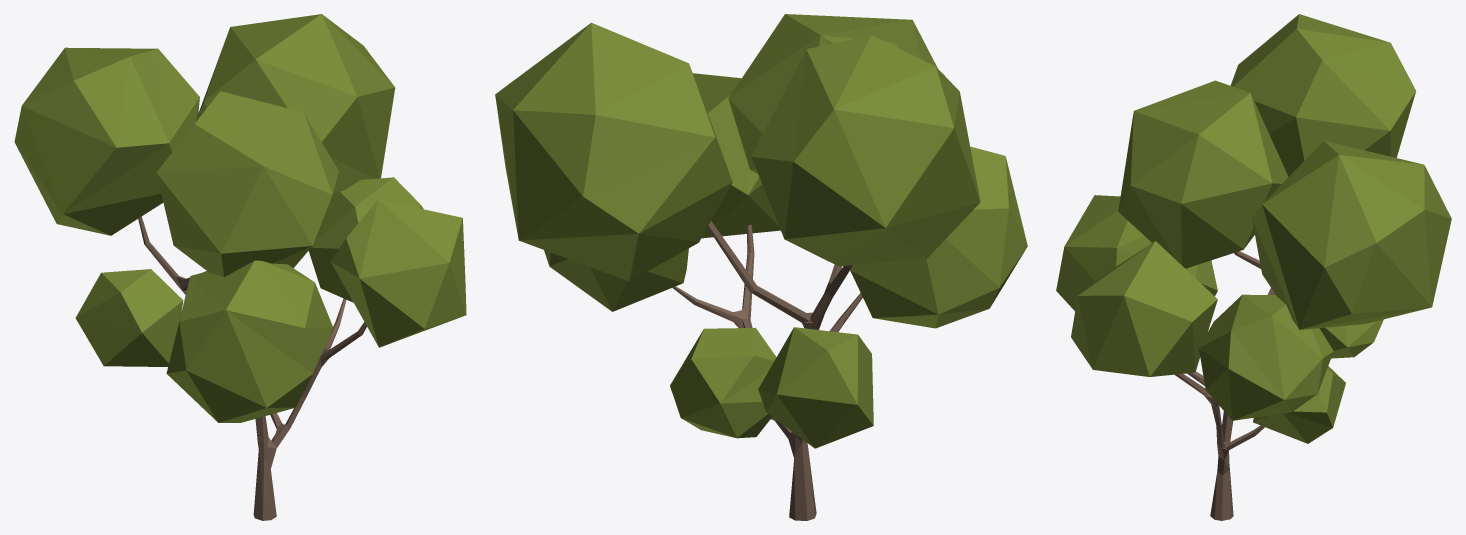
The model's file is oak_2.fbx.
3 views of the same model, side by side, from view 1: azimuth 30°, elevation 25°; view 2: azimuth 150°, elevation 25°; view 3: azimuth 270°, elevation 25° (orthographic). The views are drawn at different scales.
Visible parts, largest first — view 1: oak_2; view 2: oak_2; view 3: oak_2.
Part boxes in pixels (x1,y1,x2,y2): oak_2: [14, 14, 466, 520]; oak_2: [495, 14, 1027, 520]; oak_2: [1056, 14, 1451, 520].
Bounding box in the file's own units: 856 × 995 × 808.
